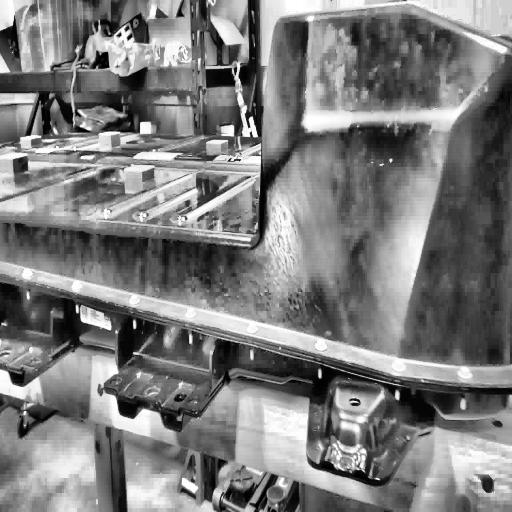b_casing: (1, 1, 512, 418)
nut: (457, 362, 474, 383), (391, 356, 408, 377), (314, 336, 328, 355), (20, 265, 34, 281), (246, 320, 258, 336), (184, 306, 196, 321), (129, 294, 141, 308), (70, 279, 82, 293)
